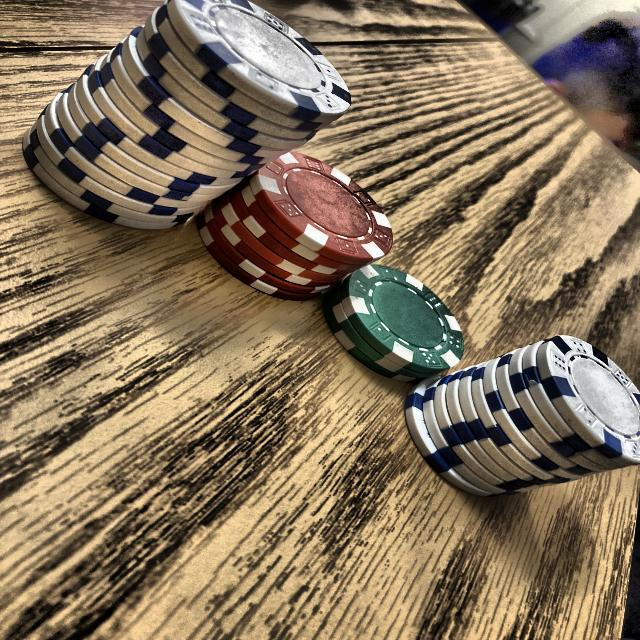Chip: (16, 2, 363, 258), (195, 124, 424, 316), (393, 331, 640, 508), (312, 242, 477, 396)
